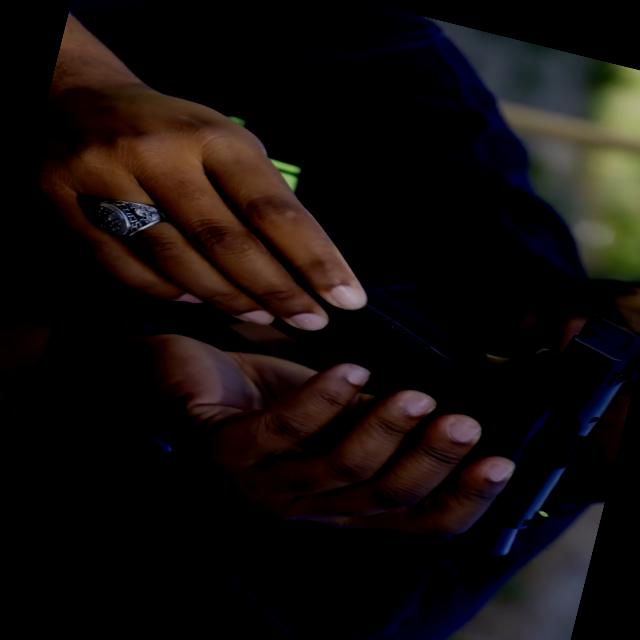handgun: (202, 175, 639, 599)
